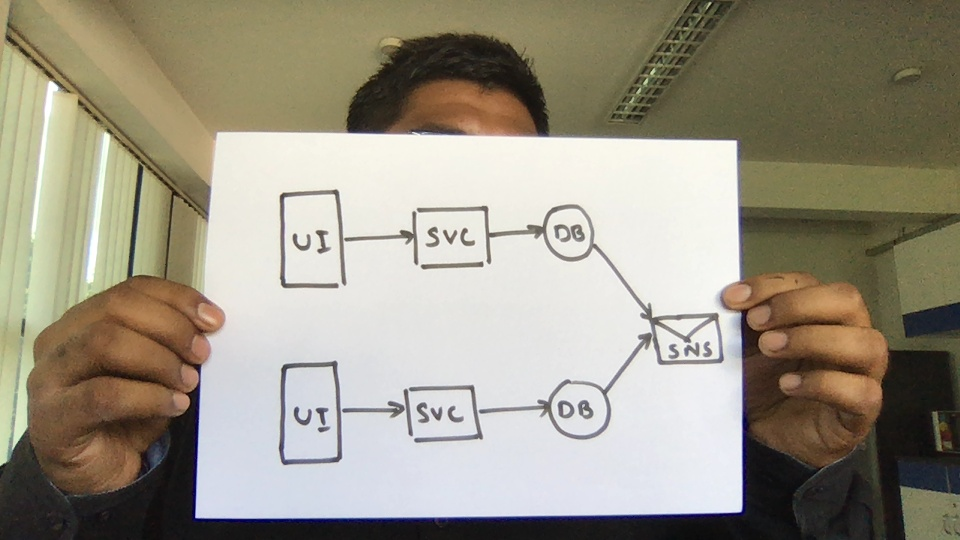db: (539, 195, 602, 270), (547, 371, 610, 446)
ec2: (410, 201, 497, 274), (402, 377, 489, 450)
sns: (643, 305, 729, 375)
ui: (272, 186, 352, 295), (271, 355, 351, 464)
